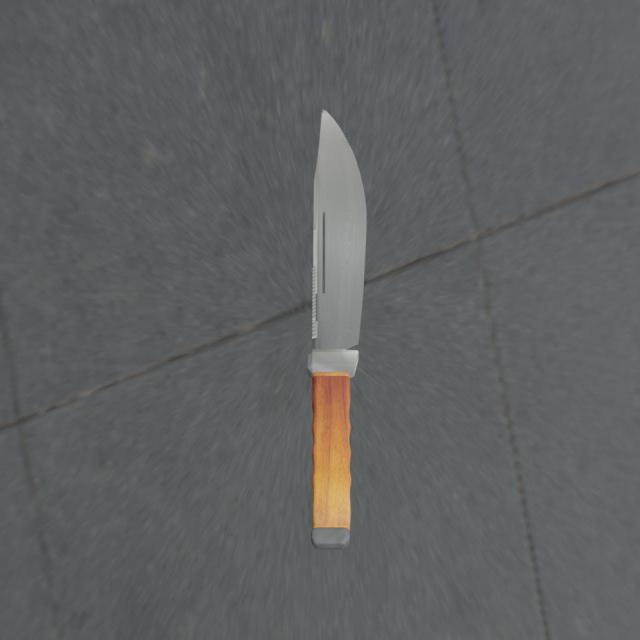knife: (308, 350, 353, 524)
